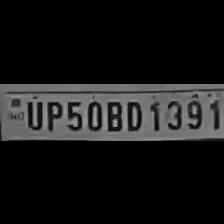0: (84, 97, 103, 130)
1: (144, 97, 162, 131), (206, 96, 222, 130)
3: (164, 96, 182, 130)
5: (63, 97, 83, 130)
9: (184, 95, 202, 129)
B: (104, 96, 124, 132)
D: (124, 97, 144, 131)
P: (43, 97, 62, 130)
U: (23, 97, 43, 129)
